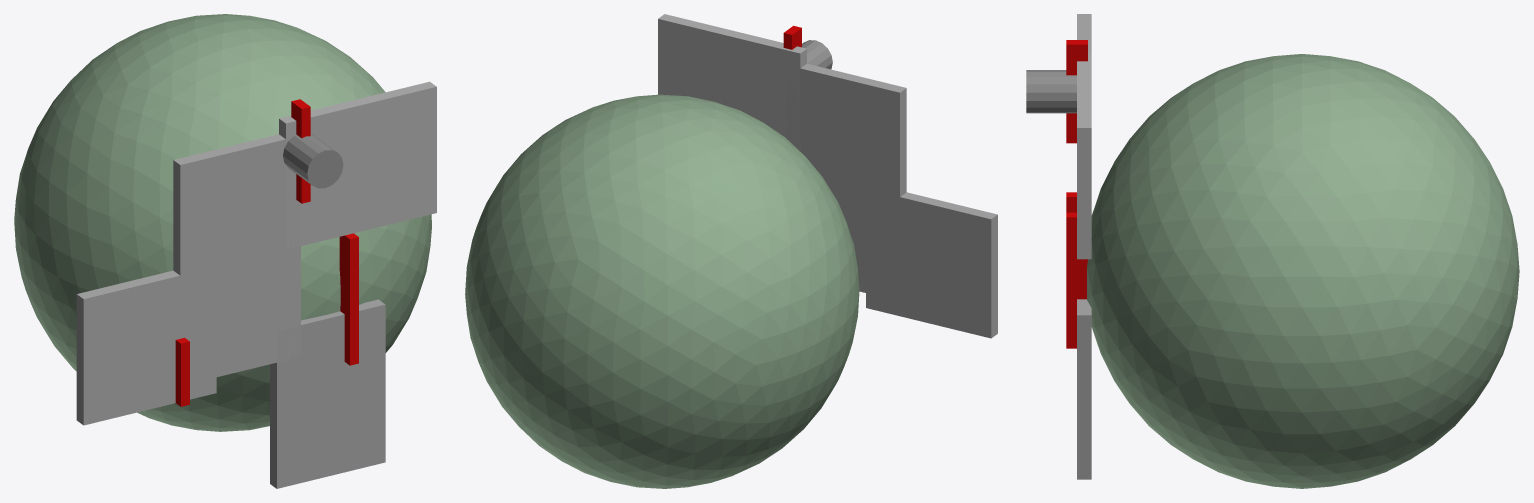
The model's file is tectonic_plates.glb.
3 renders of one model, left to right at view 1: azimuth 30°, elevation 25°; view 2: azimuth 150°, elevation 25°; view 3: azimuth 270°, elevation 25°, orthographic. The views are drawn at different scales.
Visible parts, largest first — view 1: world; view 2: world; view 3: world.
Part boxes in pixels (x1,y1,x2,y2): world: [14, 14, 436, 488]; world: [465, 14, 997, 488]; world: [1026, 14, 1519, 488].
Size of the model in its own units: 7.1 by 6.25 by 6.8.
